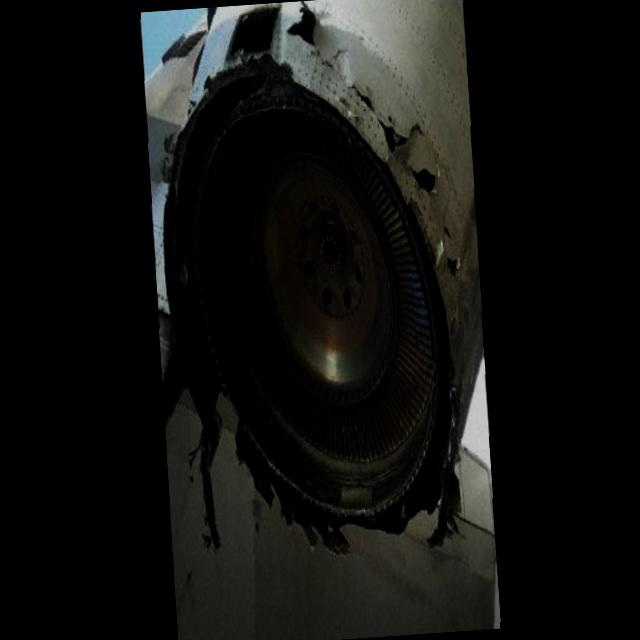crack: (277, 0, 467, 288)
